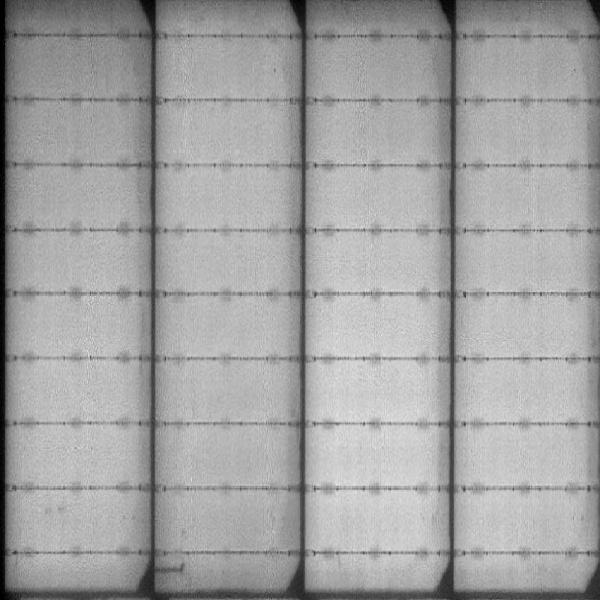scratch: (157, 556, 193, 578)
